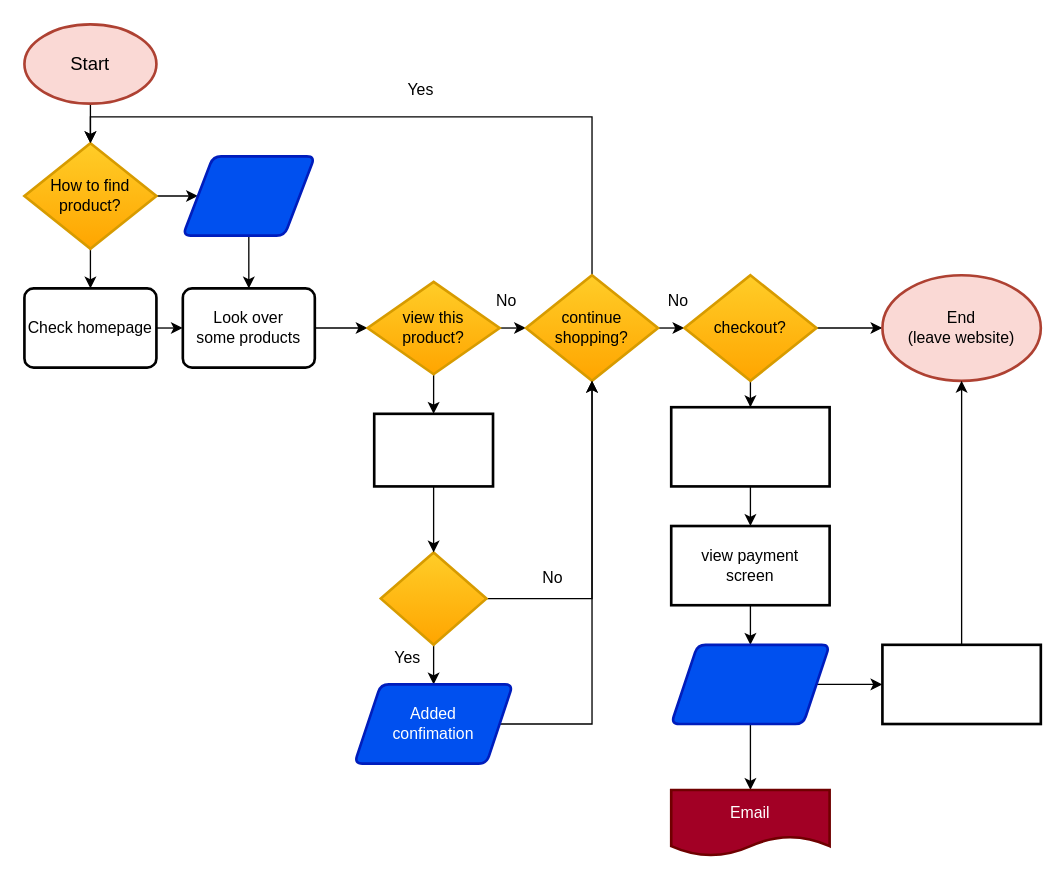
Some shapes in this 1064 by 879 pixel diagram are drawn without their labels. Each missing label, with the centre of its shape:
Add to Chart?: (x=433, y=597)
confirmation screen: (x=960, y=684)
Payment Info: (x=749, y=684)
product page: (x=433, y=449)
Search keywords: (x=248, y=195)
view char screen: (x=749, y=446)
